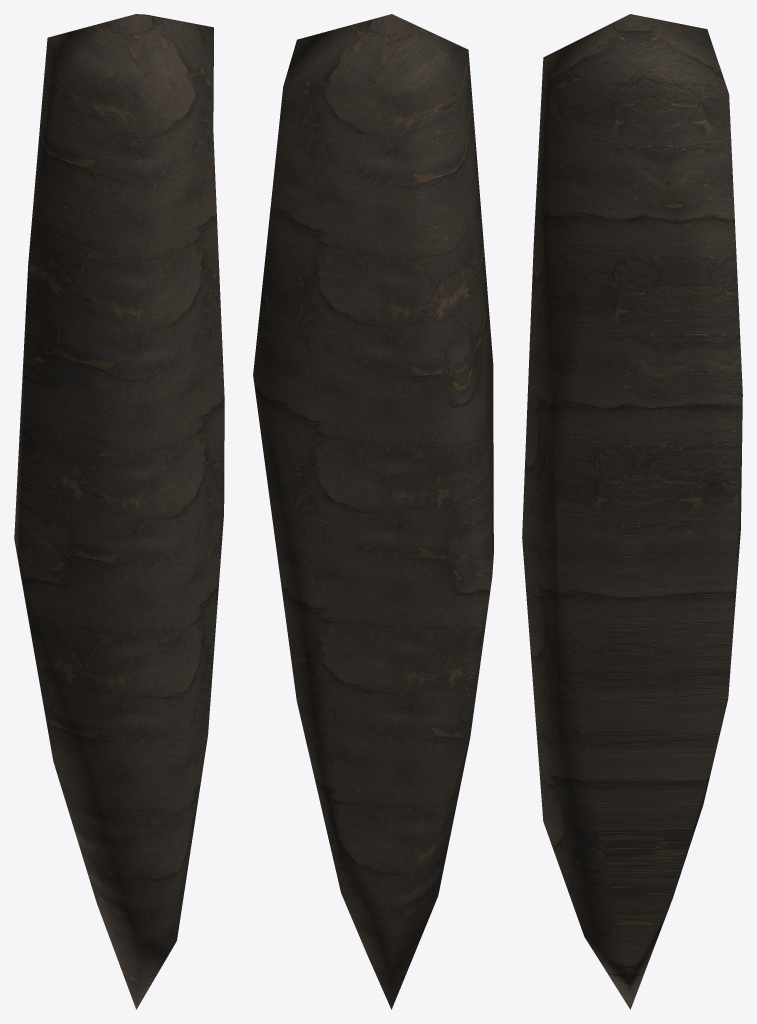
The model's file is cliff_pillar_b_lod3.gltf.
The picture shows the model from 3 angles, left to right: view 1: azimuth 30°, elevation 25°; view 2: azimuth 150°, elevation 25°; view 3: azimuth 270°, elevation 25°; orthographic projection.
Parts seen in each view (by area): view 1: cliff_pillar_b_LOD3; view 2: cliff_pillar_b_LOD3; view 3: cliff_pillar_b_LOD3.
Boxes of the visible parts, <box> form: cliff_pillar_b_LOD3: <box>14,14,224,1009</box>; cliff_pillar_b_LOD3: <box>253,14,493,1009</box>; cliff_pillar_b_LOD3: <box>522,14,742,1009</box>.
Size of the model in its own units: 9.26 by 44 by 8.84.
Materials: 1 (1 with a texture image).
